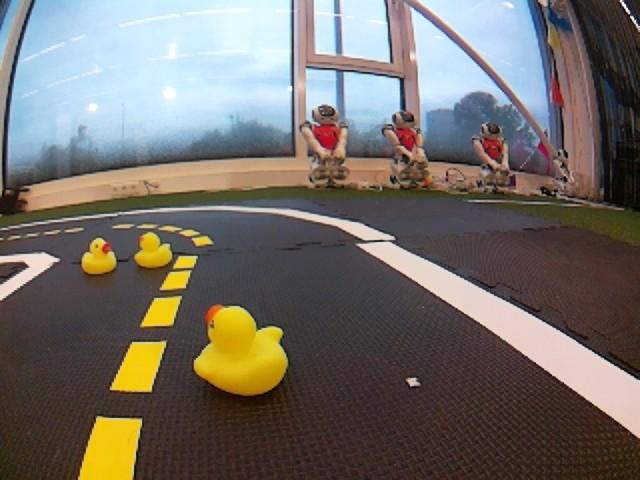Duckies: (190, 303, 289, 396), (133, 232, 173, 268), (80, 237, 117, 275)
